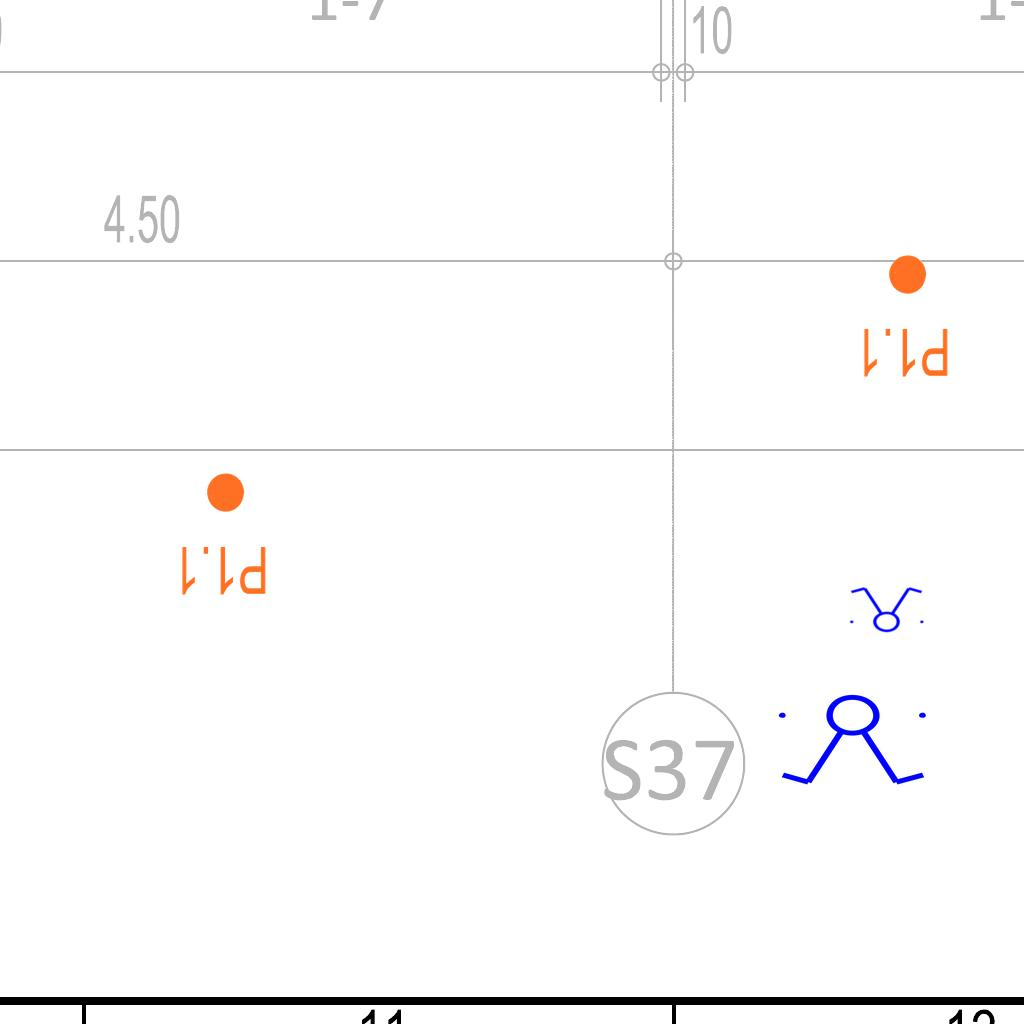Downlight_LED_Einbauleuchten_Flur: (176, 470, 269, 598), (858, 252, 951, 380)
Serienschalter: (770, 693, 938, 789), (844, 585, 928, 633)
